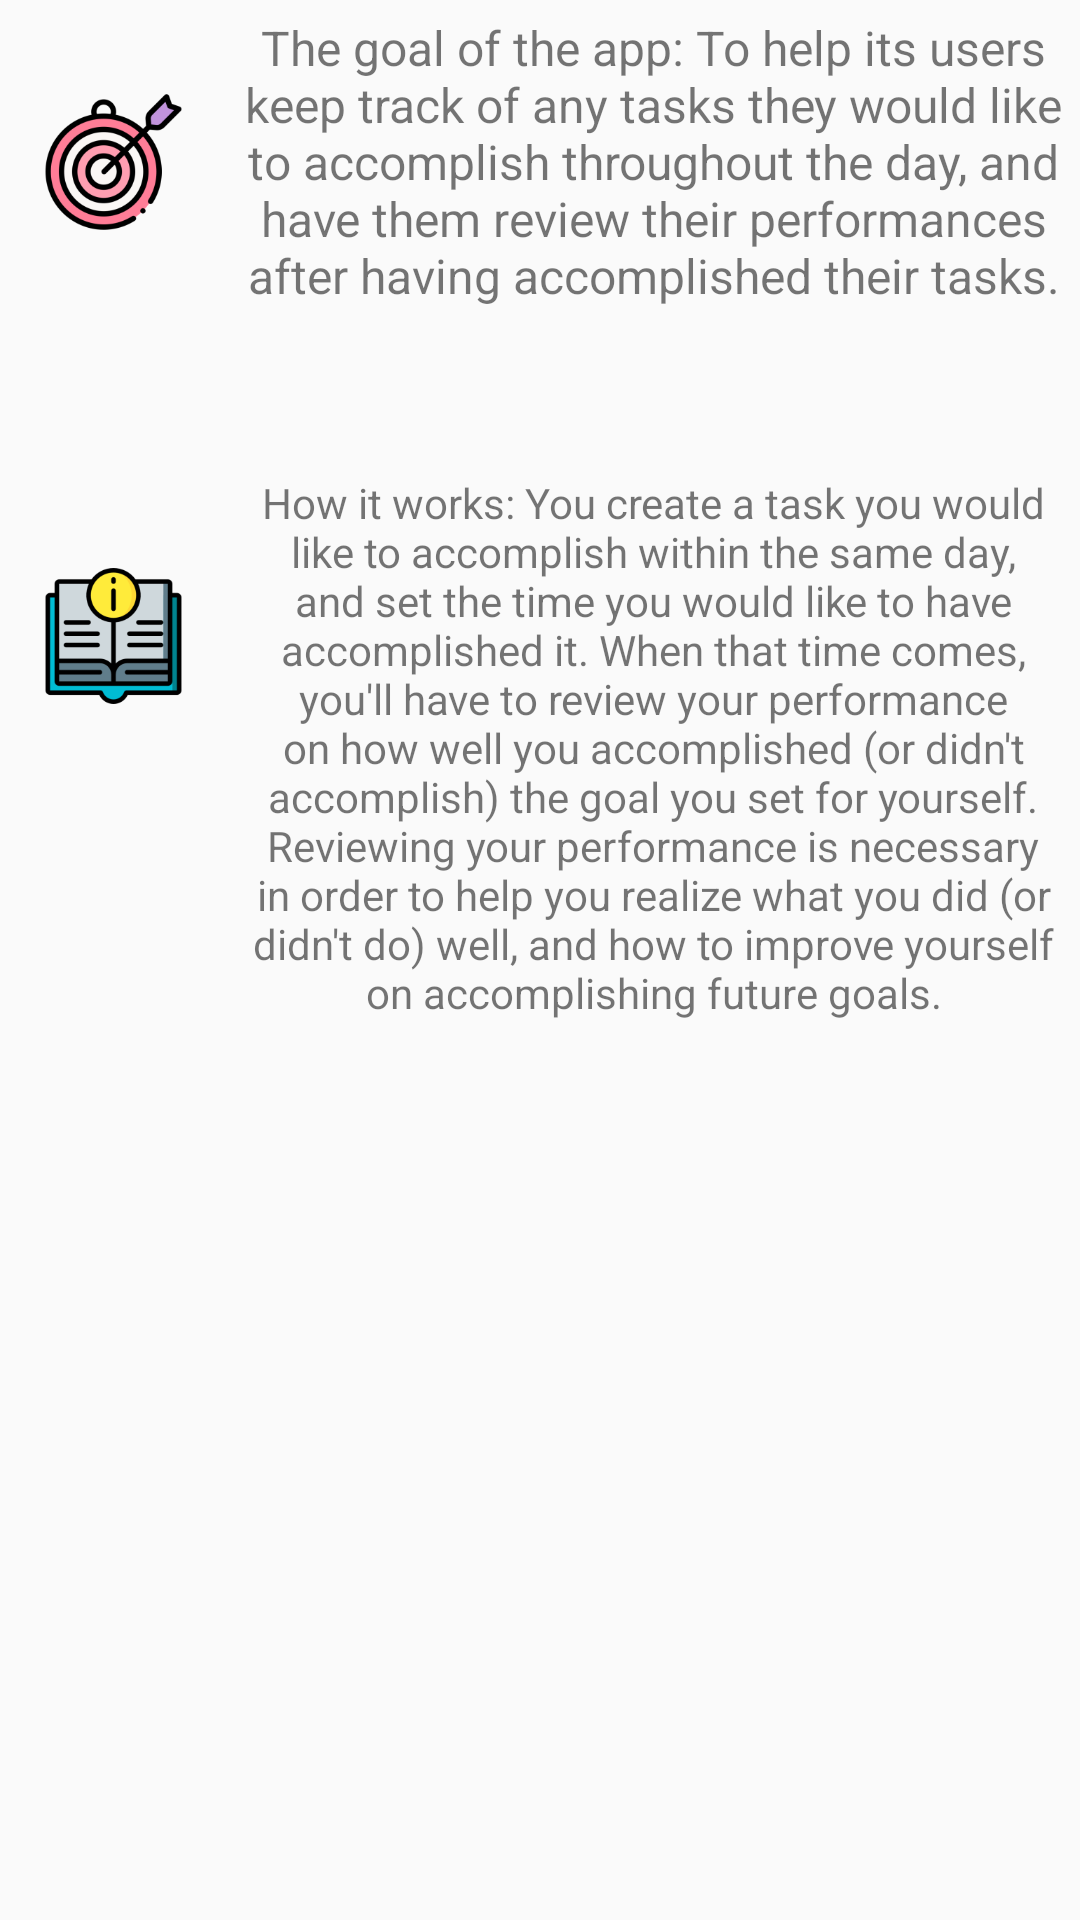

Point at icon controls on the screen. Image size 1080x1920, points as (x,y).
instructions: (113,636)
